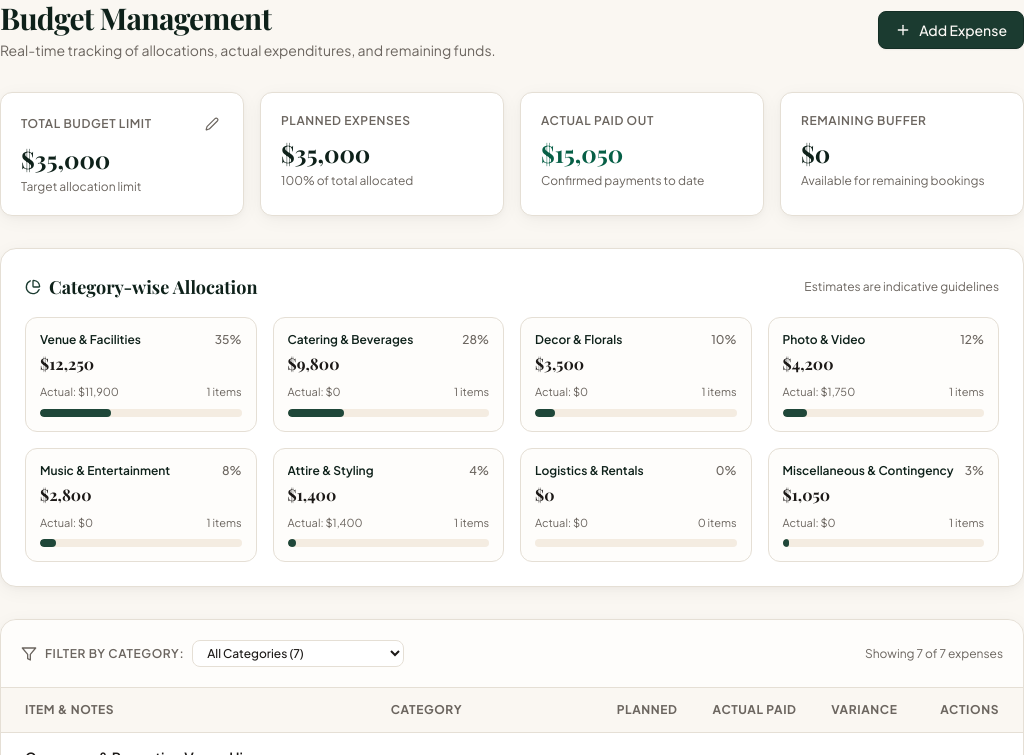
Test: Gatherly User Interface and Journey Integration Tests › allows adding and editing items in BudgetPlanner with immediate calculation updates
This screenshot has width=1024, height=755.
Note: Click "Add Expense"
Click the button "Add Expense": (951, 30) [878,11,1023,49]
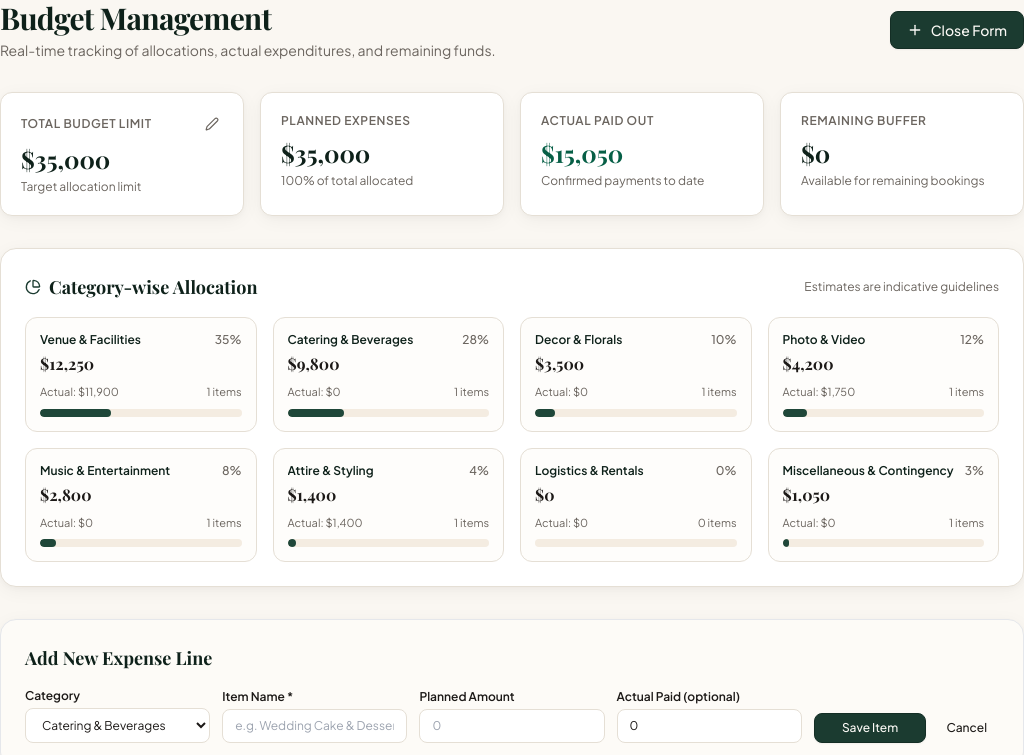
In the field labelled "Item Name *": (315, 726) [222,709,407,743], type "Signature Donut Wall"
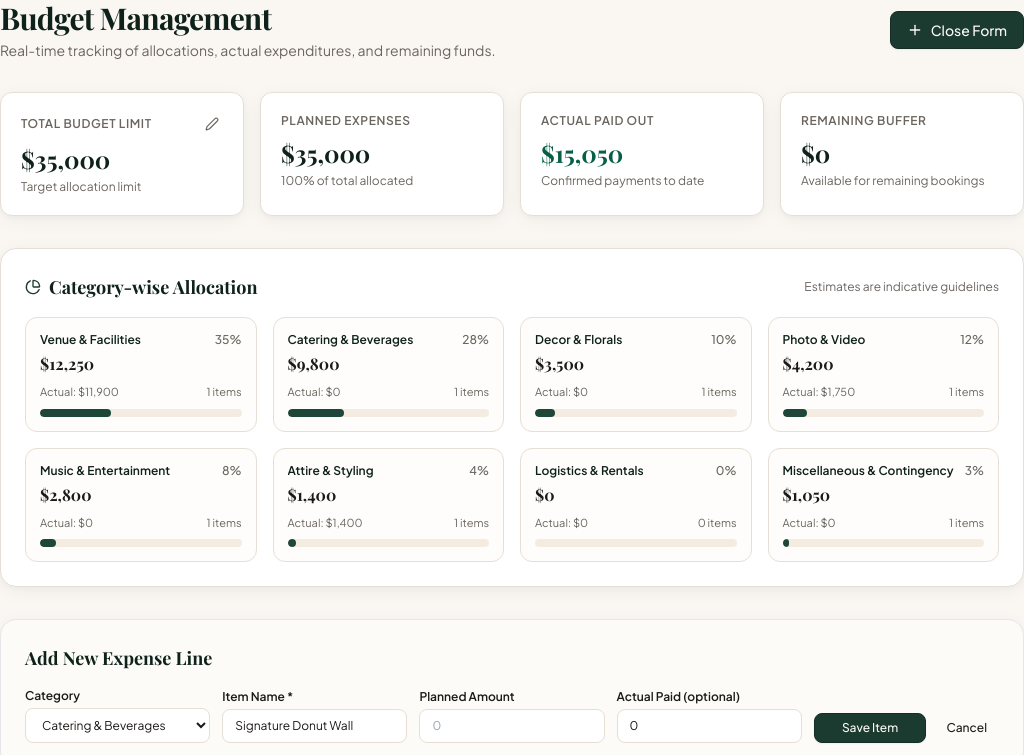
In the number field labelled "Planned Amount": (512, 726) [419,709,605,743], type "450"
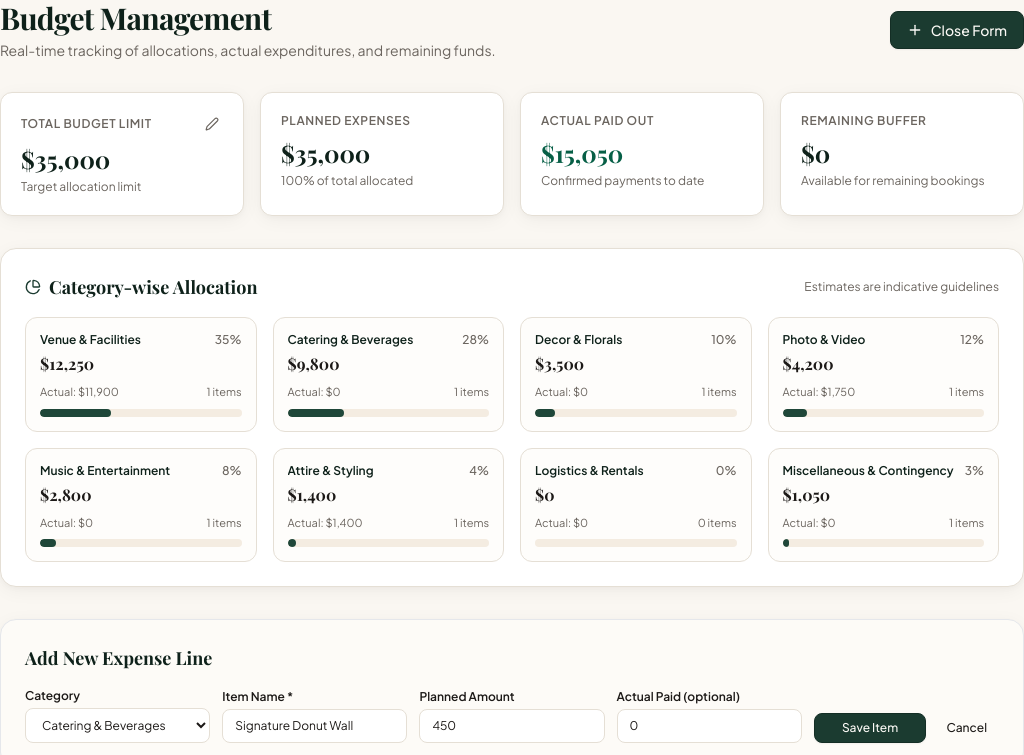
Click the button "Save Item": (870, 728) [814,713,926,743]
(page scrolled)
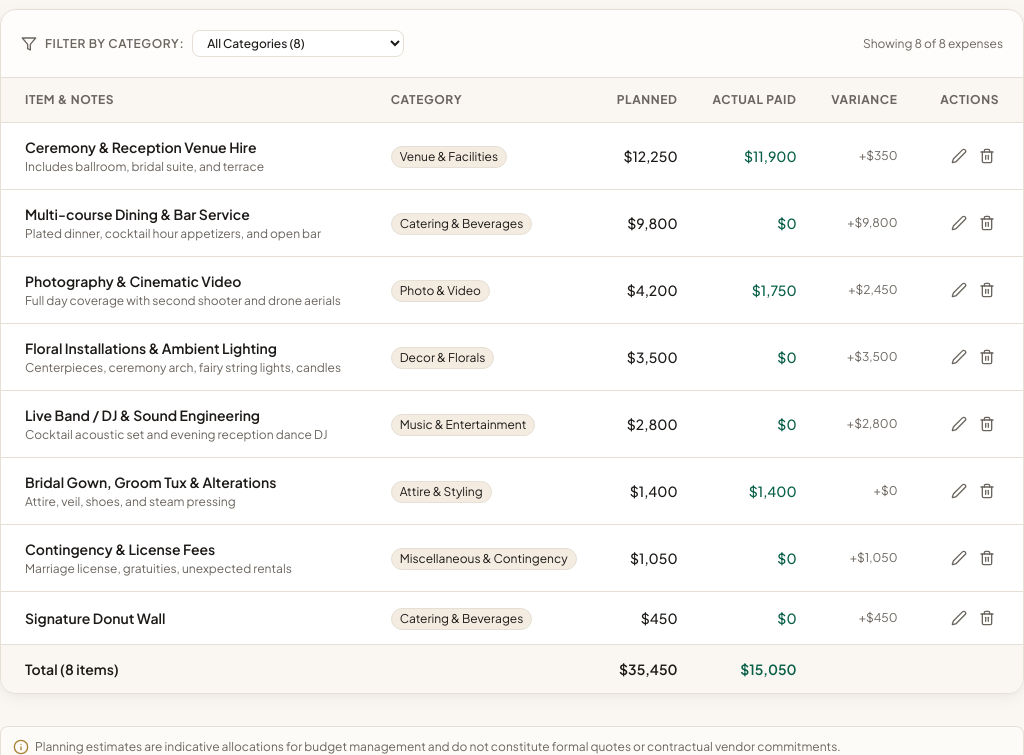
Now the text "Signature Donut Wall" is shown, box [25,609,165,627]
